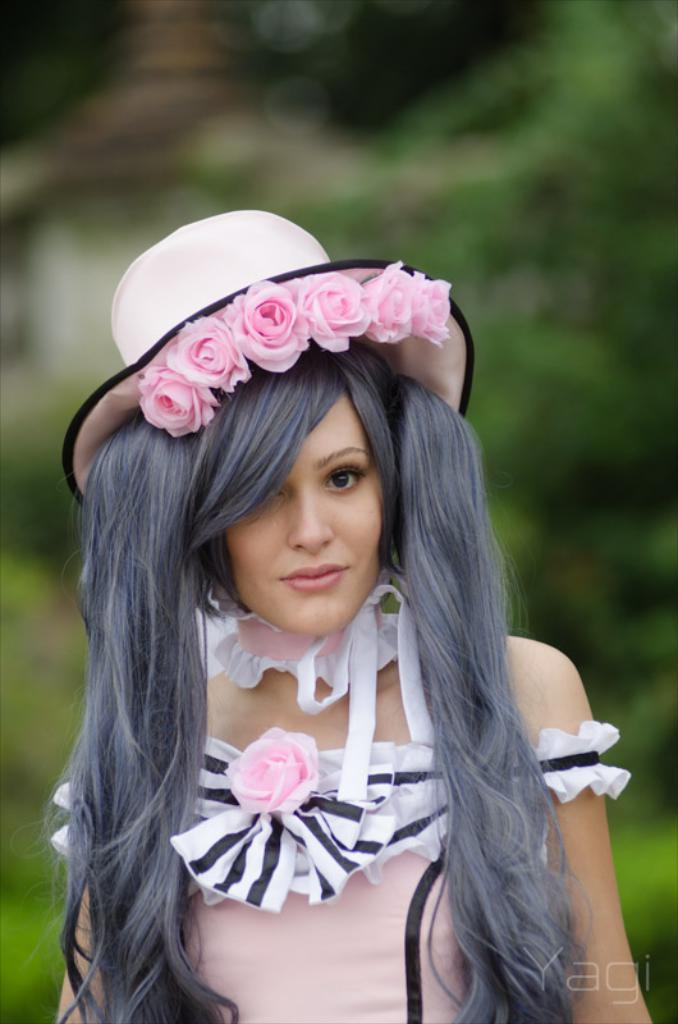Hat: (69, 212, 469, 512)
